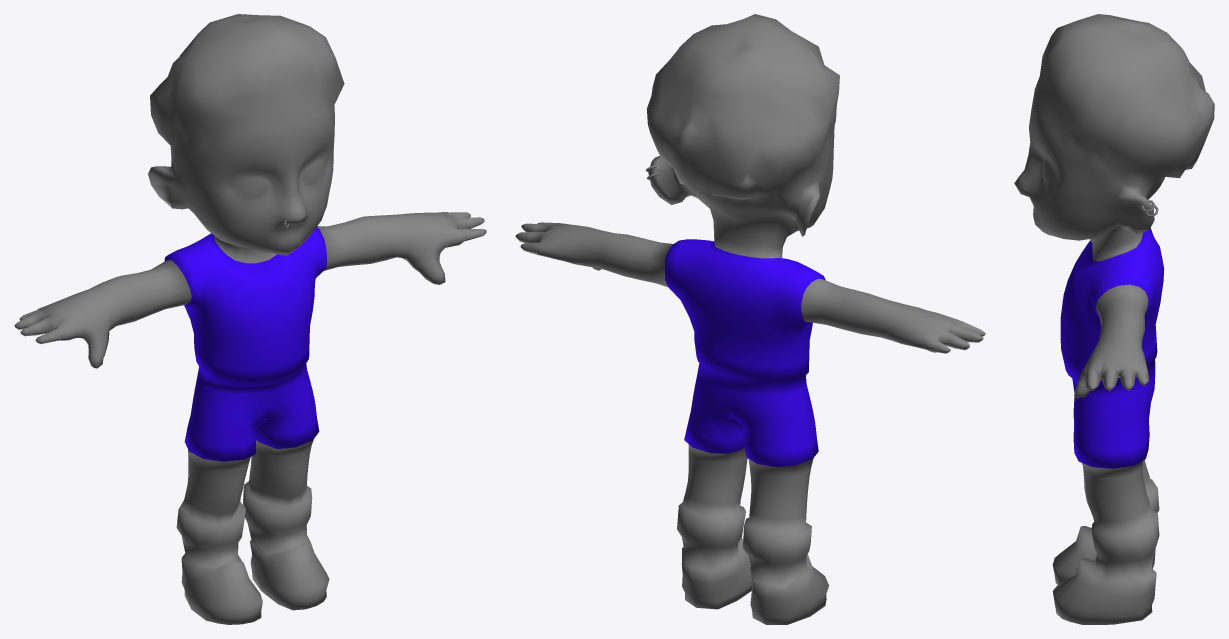
Rendered from Ramon_Low.fbx.
3 renders of one model, left to right at view 1: azimuth 30°, elevation 25°; view 2: azimuth 150°, elevation 25°; view 3: azimuth 270°, elevation 25°, orthographic.
Visible parts, largest first — view 1: ramon_low; view 2: ramon_low; view 3: ramon_low.
Boxes of the visible parts, bbox=[...] form: ramon_low: bbox=[14, 14, 486, 624]; ramon_low: bbox=[515, 14, 985, 624]; ramon_low: bbox=[1014, 14, 1214, 624].
Bounding box in the file's own units: 79.05 × 93.65 × 29.64.
